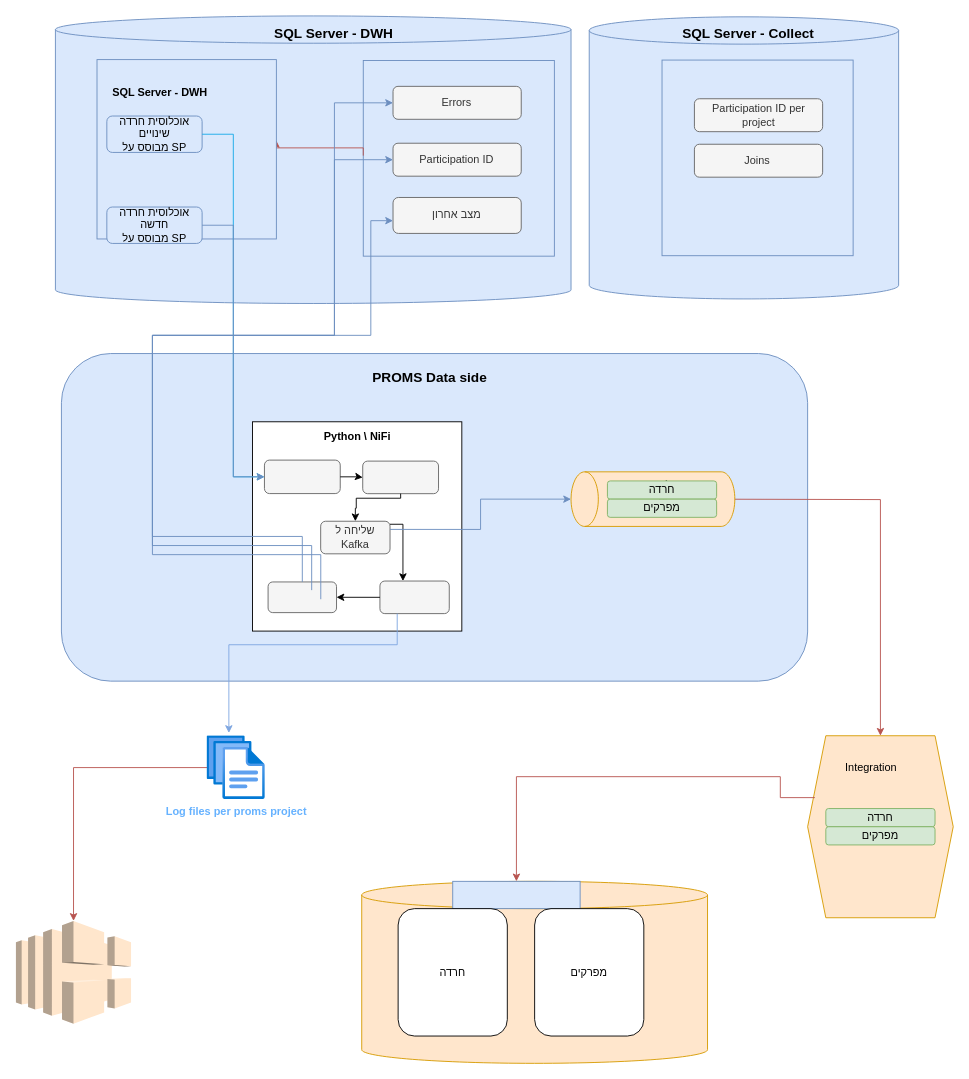
Image size: 969x1079. Some labels were removed from this diagram. The centre of each missing label's shape, as x and y in pixels:
ELK Logs index: pixel 73 972
Zedoc: pixel 516 894
בדיקות: pixel 400 477
הרכבת JSON: pixel 302 476
ניטור: pixel 414 597
עדכון חזרה ל DWH: pixel 302 597
